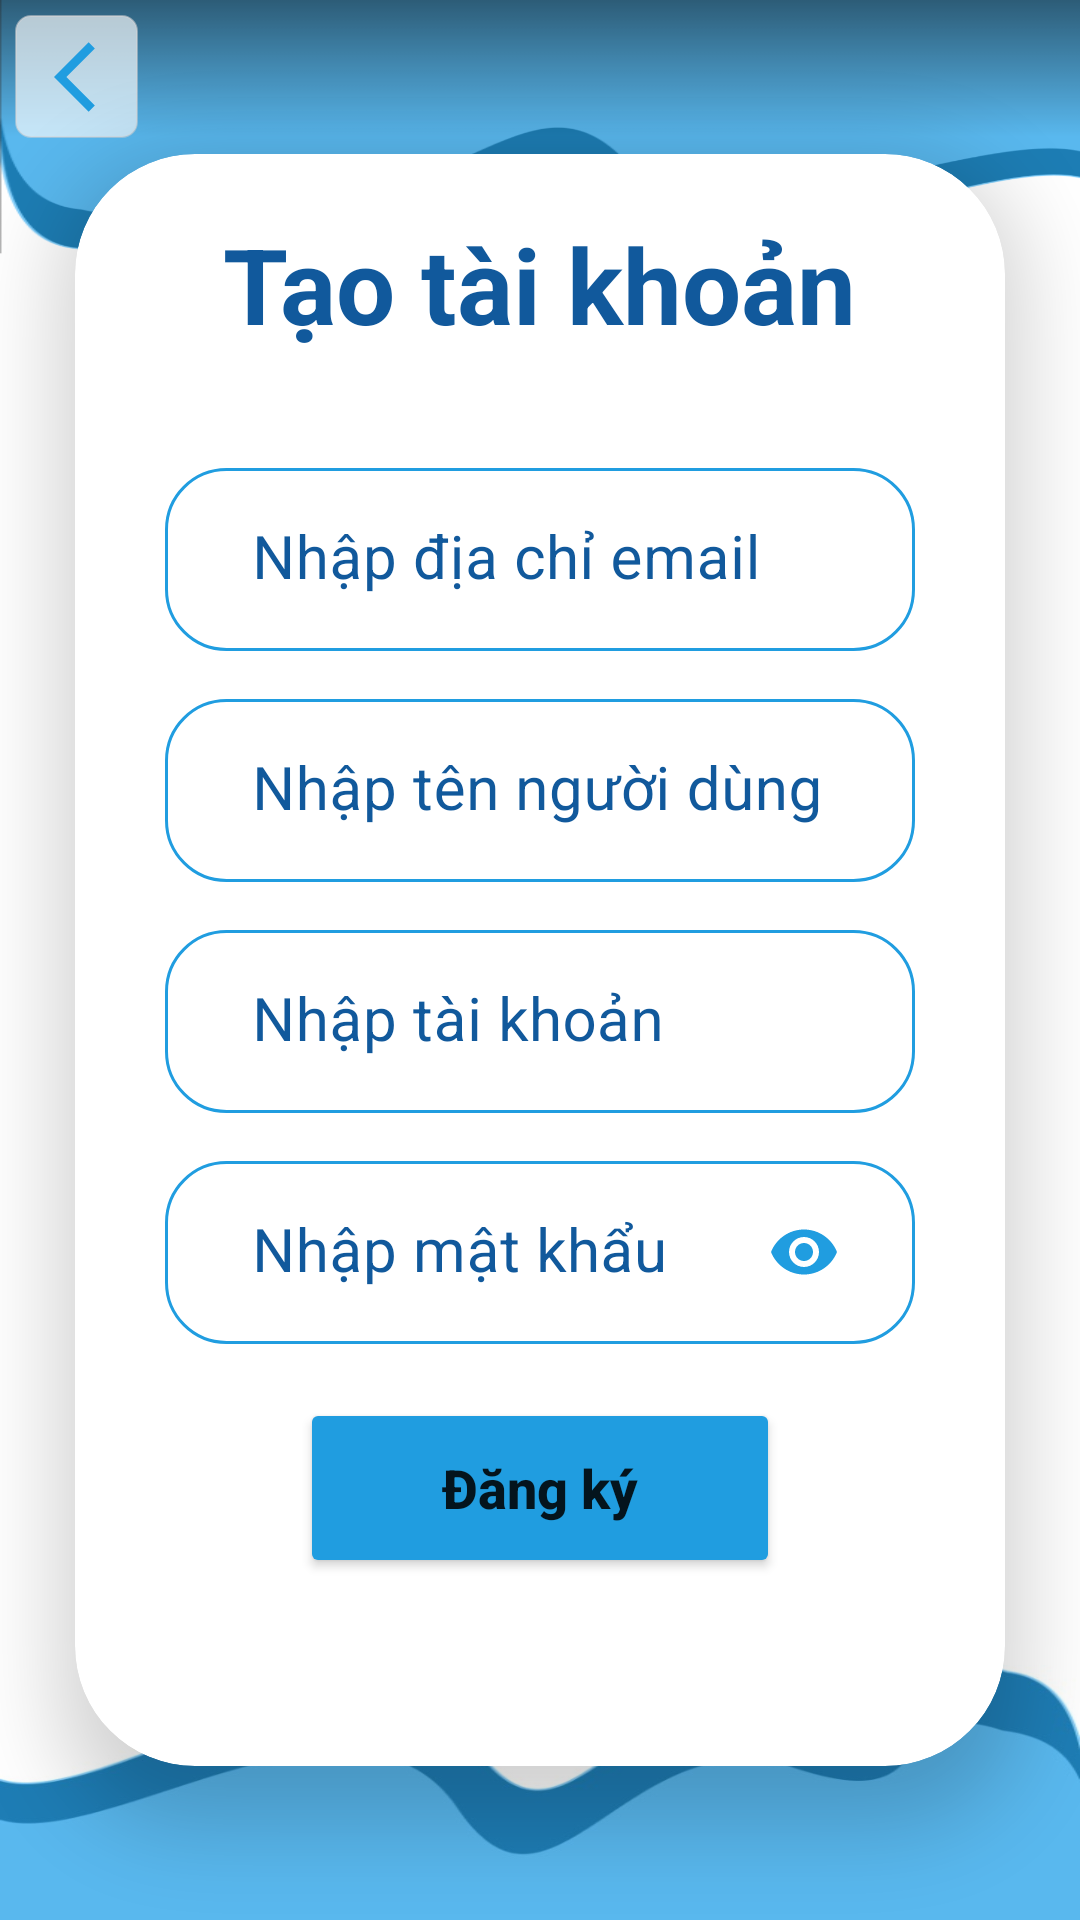

Point at icon controls on the screen. Image size 1080 × 1920, points as (x,y).
arrow back: (76,76)
